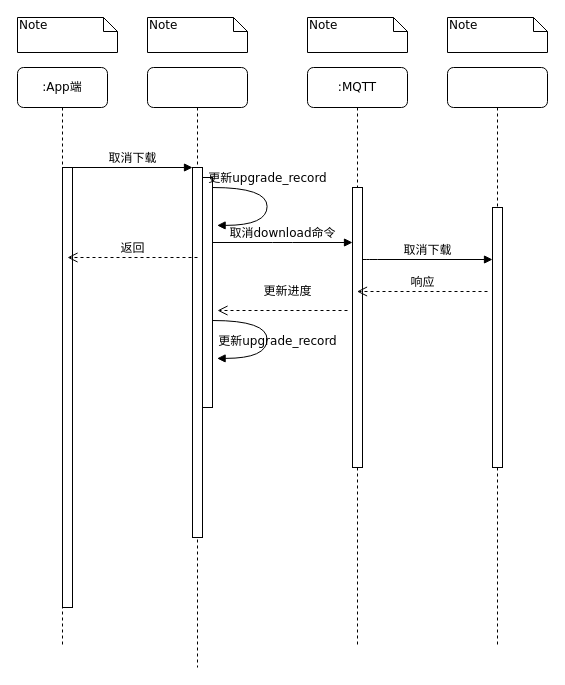
This 565x685 diagram has some shape labels left out. The box of each missing label's shape, as (x1, y1, x2, y2) in pixels:
:OTA云端: (146, 66, 248, 668)
:机器人端: (446, 66, 548, 648)
